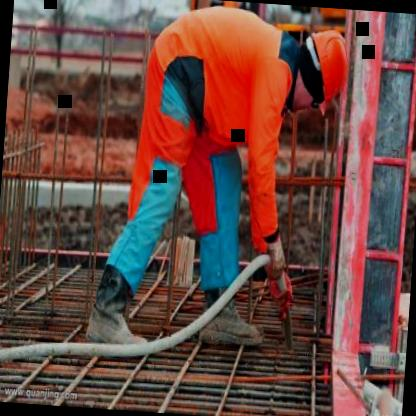helmet: (285, 22, 359, 120)
